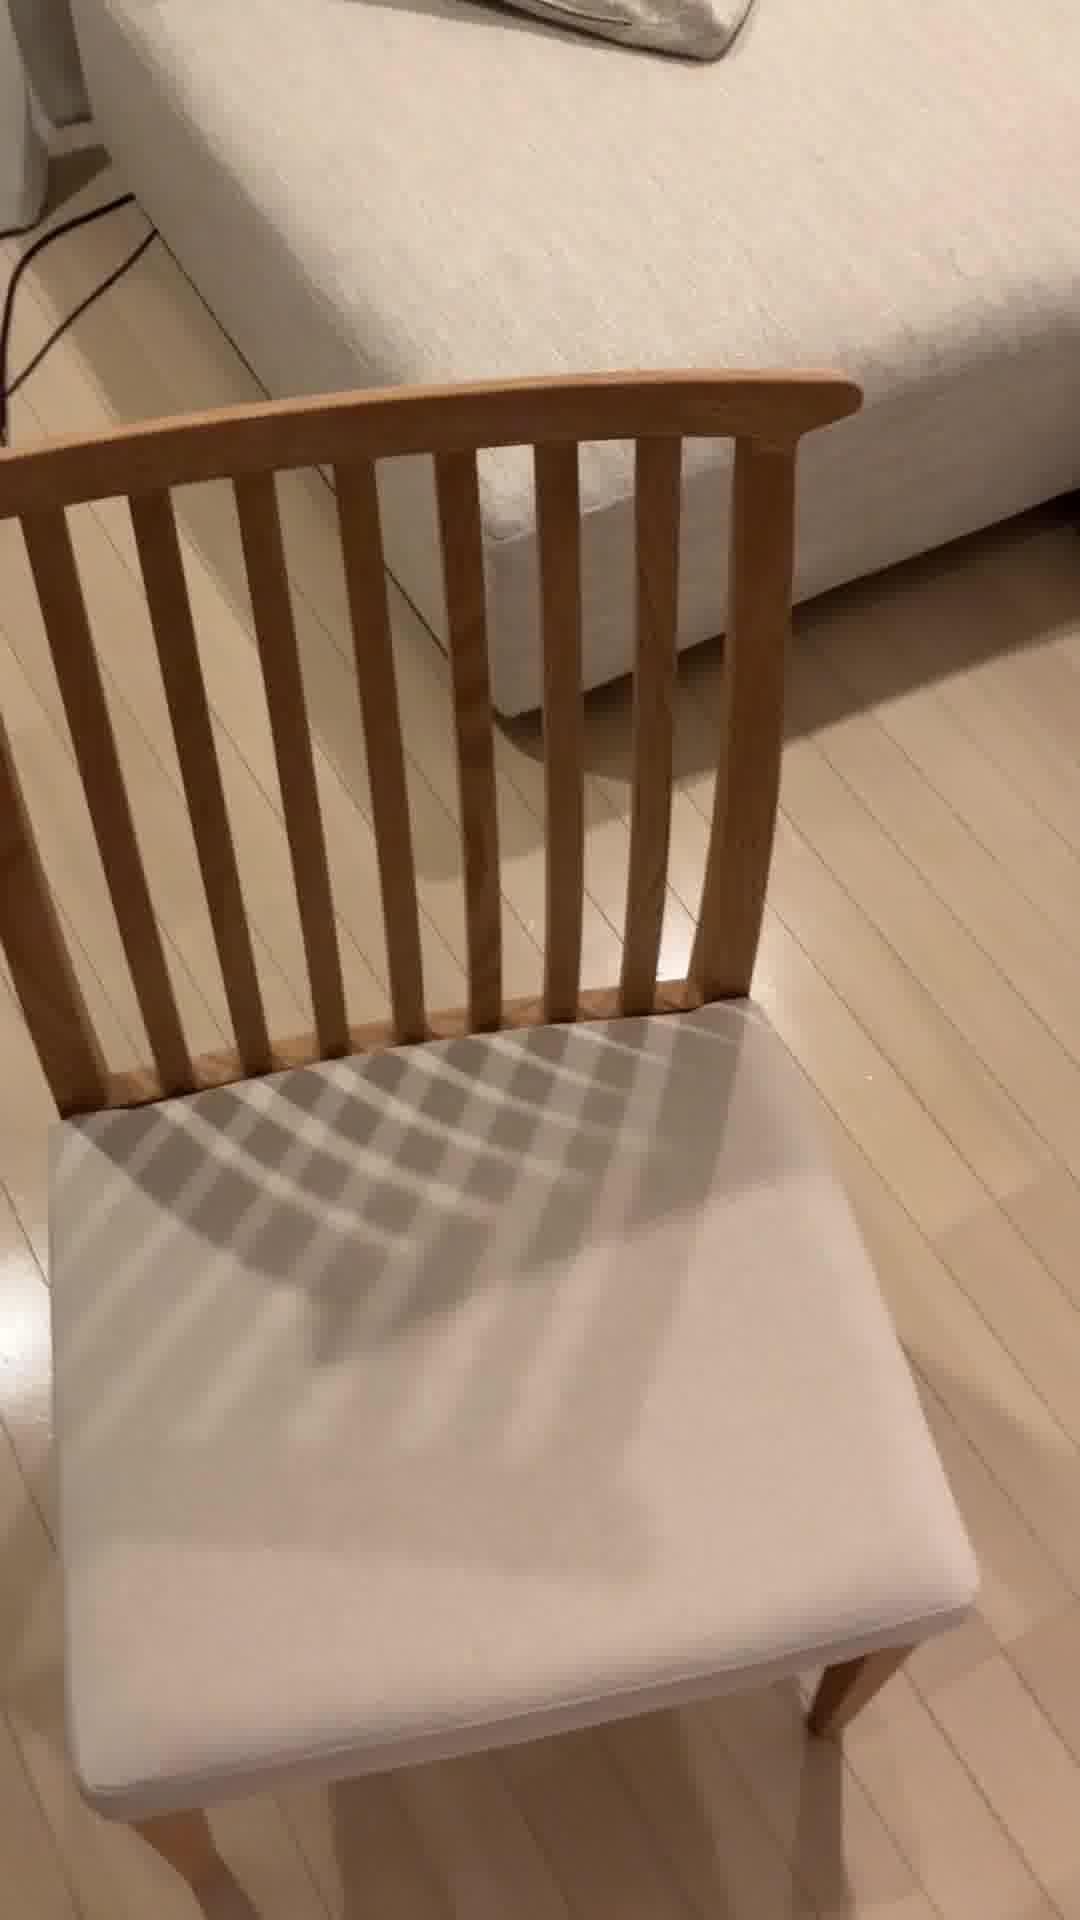takumikan-chair: (0, 360, 984, 1882)
